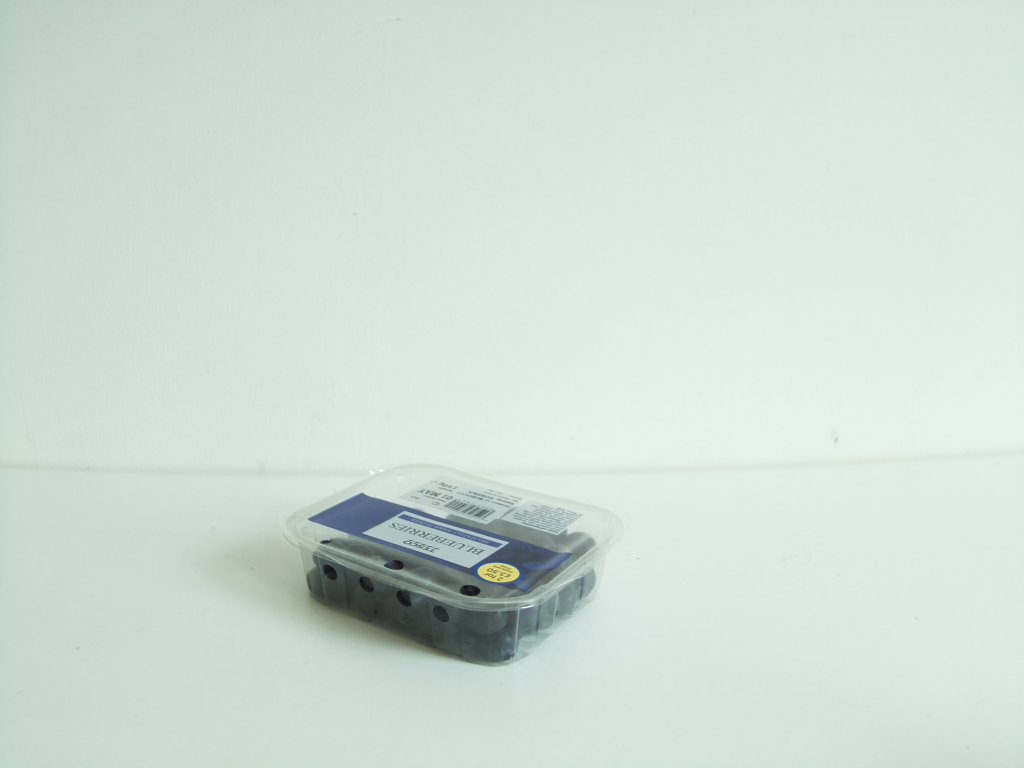soft-fruit: (289, 466, 624, 668)
